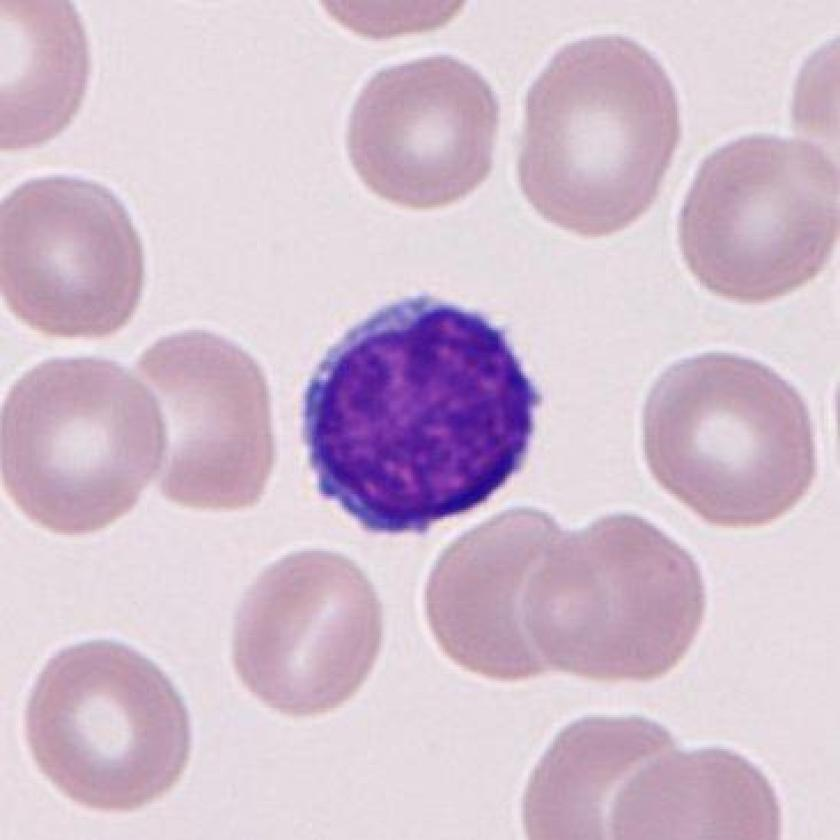lymphocyte: (286, 279, 557, 552)
